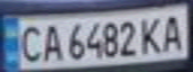2: (118, 17, 142, 57)
4: (84, 19, 106, 60)
6: (63, 19, 84, 61)
8: (100, 18, 121, 58)
A: (157, 11, 190, 52), (36, 20, 66, 62)
C: (15, 22, 45, 64)
K: (136, 13, 166, 55)
